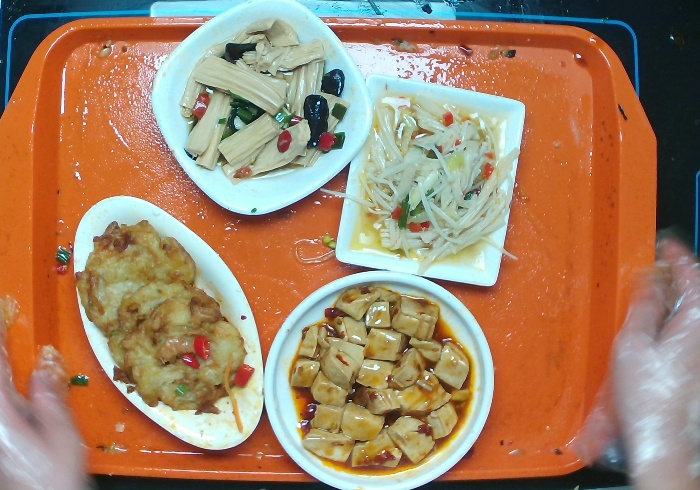HZYJPL-Si_Fang_Die: (334, 73, 528, 289)
HZYJPL-Si_Fang_Yuan_Die: (149, 1, 374, 217)
HZYJPL-Xiao_Yu_Die: (71, 194, 265, 451)
HZYJPL-Xiao_Yuan_Die: (262, 269, 496, 490)
